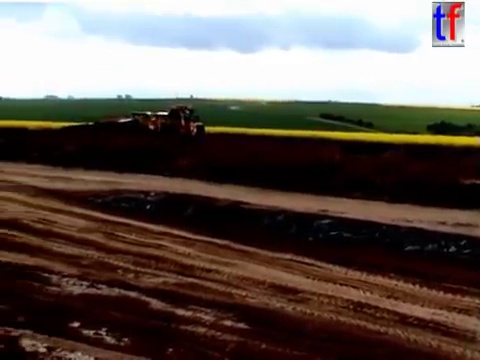excavator: (127, 102, 208, 144)
